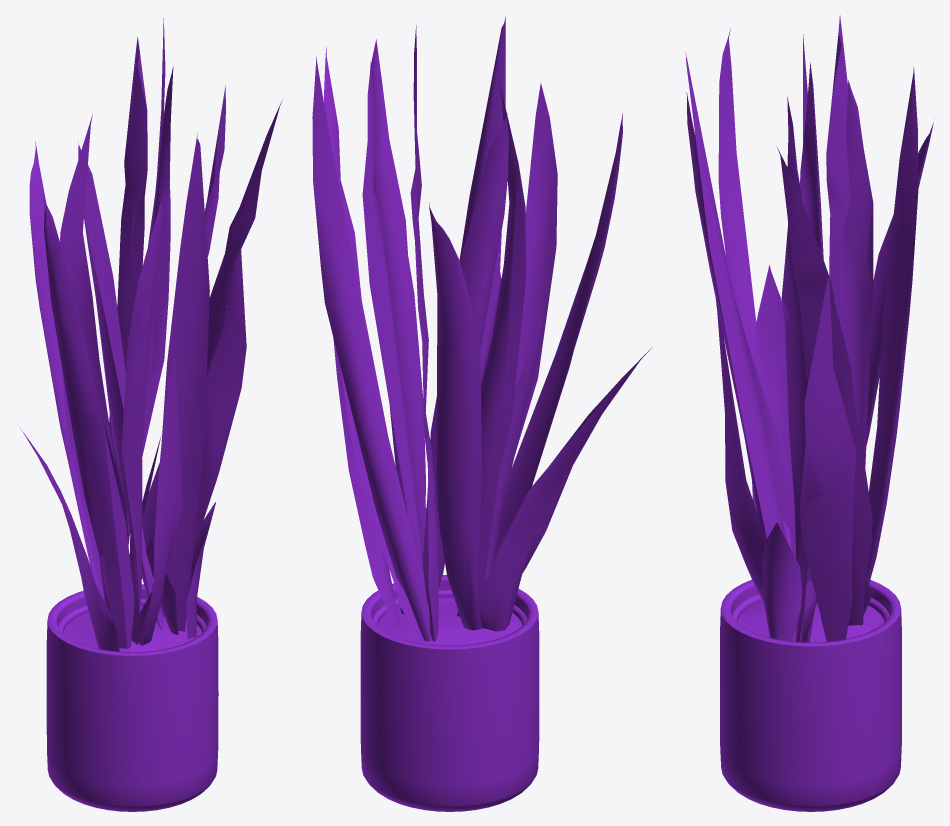
File: Plant01.fbx
3 views of the same model, side by side, from view 1: azimuth 30°, elevation 25°; view 2: azimuth 150°, elevation 25°; view 3: azimuth 270°, elevation 25° (orthographic). The views are drawn at different scales.
Parts seen in each view (by area): view 1: Plant01; view 2: Plant01; view 3: Plant01.
Boxes of the visible parts, x1=… form: Plant01: x1=20, y1=18, x2=282, y2=811; Plant01: x1=312, y1=16, x2=652, y2=811; Plant01: x1=685, y1=15, x2=933, y2=811.
Size of the model in its own units: 20.91 by 49.84 by 14.59.
